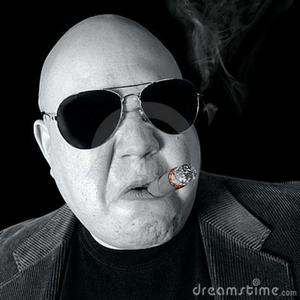cigarette: (146, 162, 199, 199)
